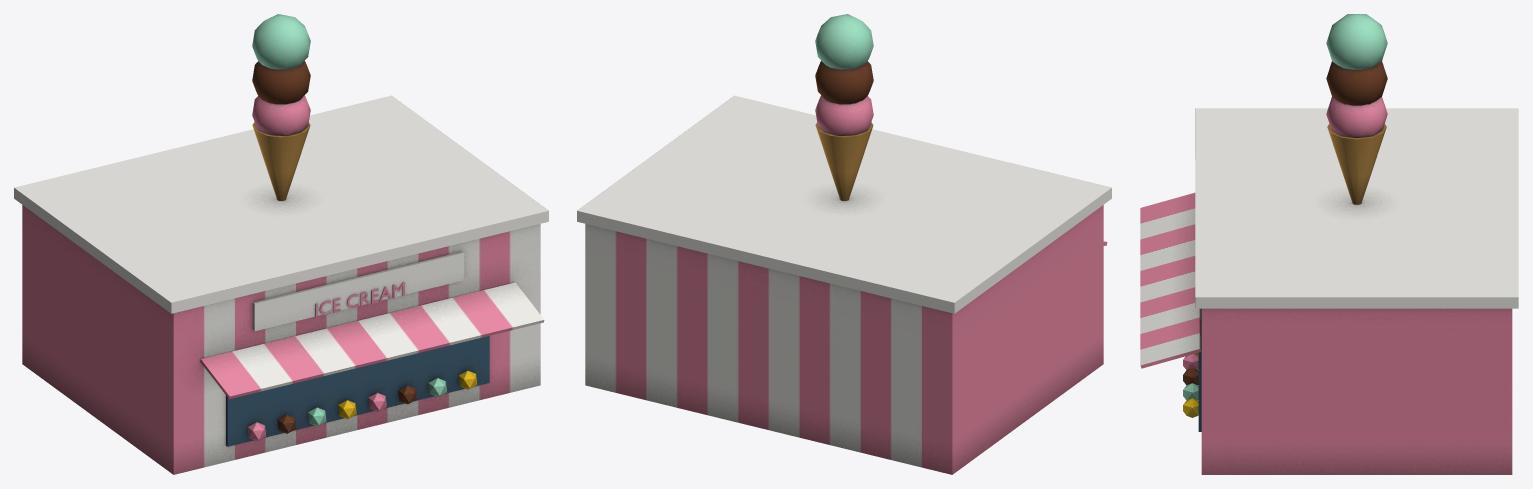
Rendered from heladeria.glb.
The picture shows the model from 3 angles, left to right: view 1: azimuth 30°, elevation 25°; view 2: azimuth 150°, elevation 25°; view 3: azimuth 270°, elevation 25°; orthographic projection. The views are drawn at different scales.
Parts seen in each view (by area): view 1: heladeria; view 2: heladeria; view 3: heladeria.
Boxes of the visible parts, x1,y1,x2,y2 form: heladeria: (14,14,548,474); heladeria: (577,14,1111,474); heladeria: (1140,14,1518,474).
Size of the model in its own units: 14.4 by 13.06 by 12.17.
1 material, 1 textured.
